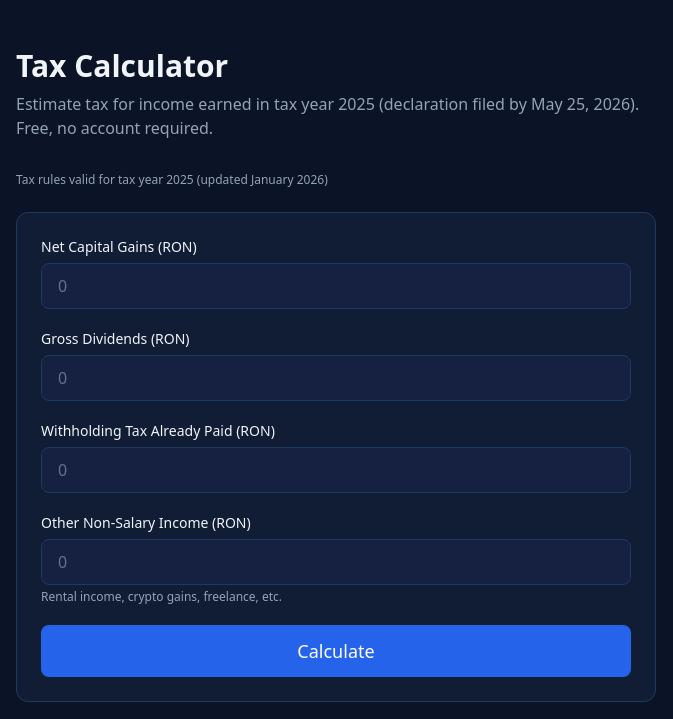
Test case: CalculatorPage › shows early filing discount information before the deadline
The width and height of the screenshot is (673, 719).
Type "10000" into the field with placeholder "0" at (336,286), box [41, 263, 631, 309]
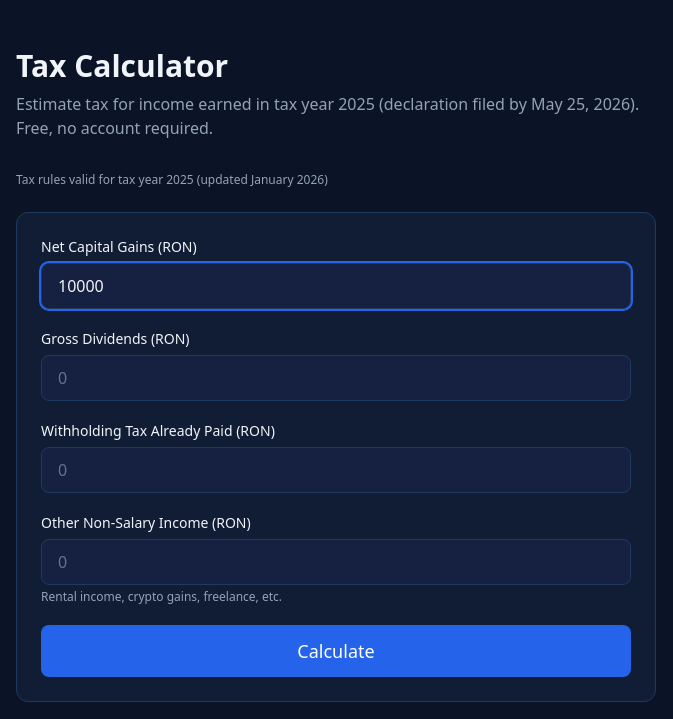
Click the button "Calculate" at (336,651), box [41, 625, 631, 677]
(page scrolled)
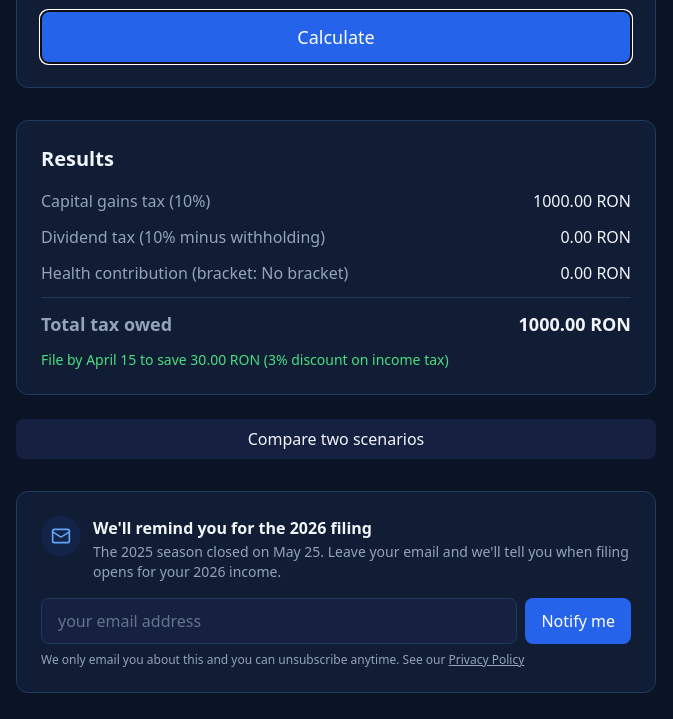
Expected: the text "3% discount" is shown, [41, 350, 449, 369]
